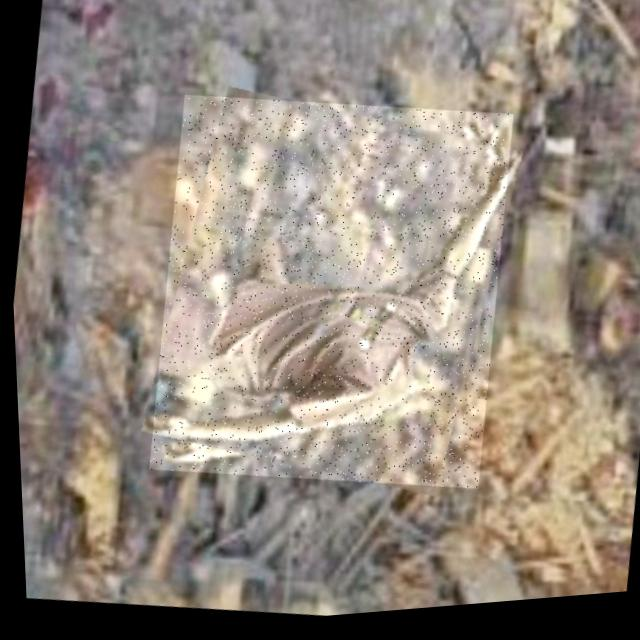Person in Rubble: (131, 77, 524, 517)
